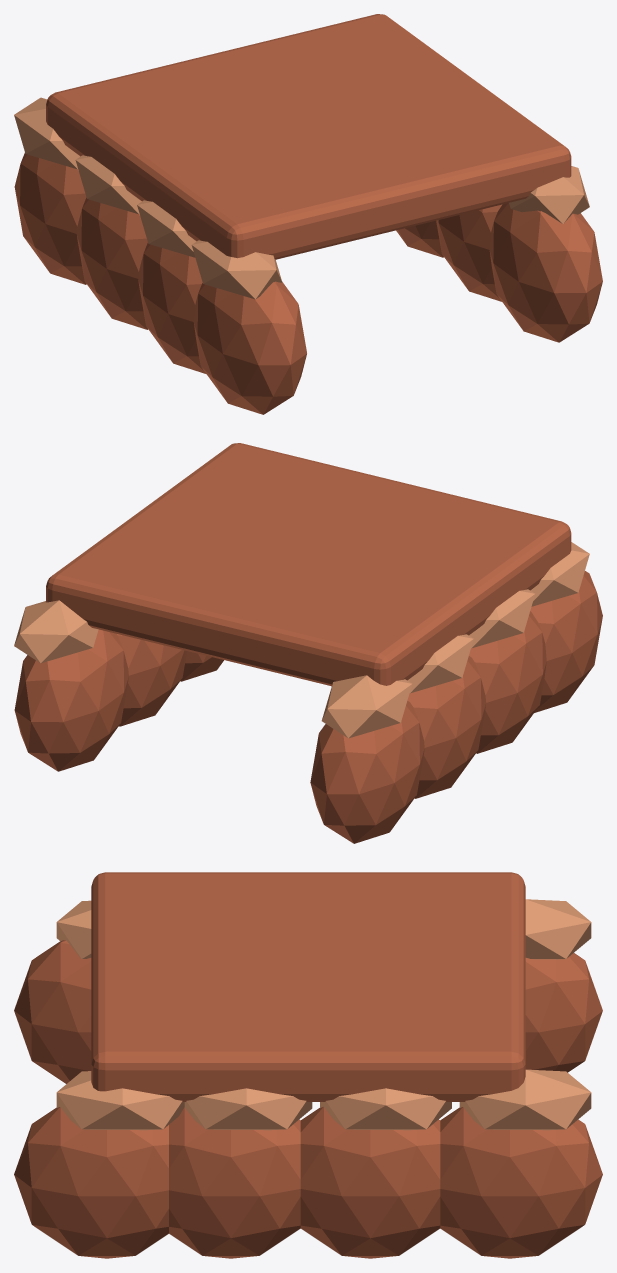
File: race_tunnel.glb
3 views of the same model, one above another, from view 1: azimuth 30°, elevation 25°; view 2: azimuth 150°, elevation 25°; view 3: azimuth 270°, elevation 25° (orthographic). The views are drawn at different scales.
Parts seen in each view (by area): view 1: race_tunnel; view 2: race_tunnel; view 3: race_tunnel.
Boxes of the visible parts, <box> form: race_tunnel: <box>14,14,602,414</box>; race_tunnel: <box>14,443,602,843</box>; race_tunnel: <box>14,872,602,1258</box>.
Bounding box in the file's own units: 31.72 × 15.25 × 38.
